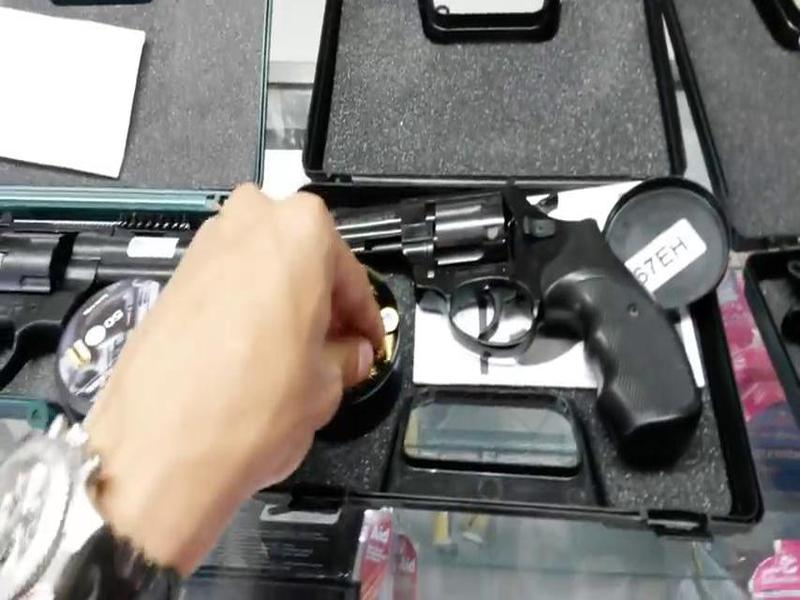Revolver: (337, 169, 718, 459)
